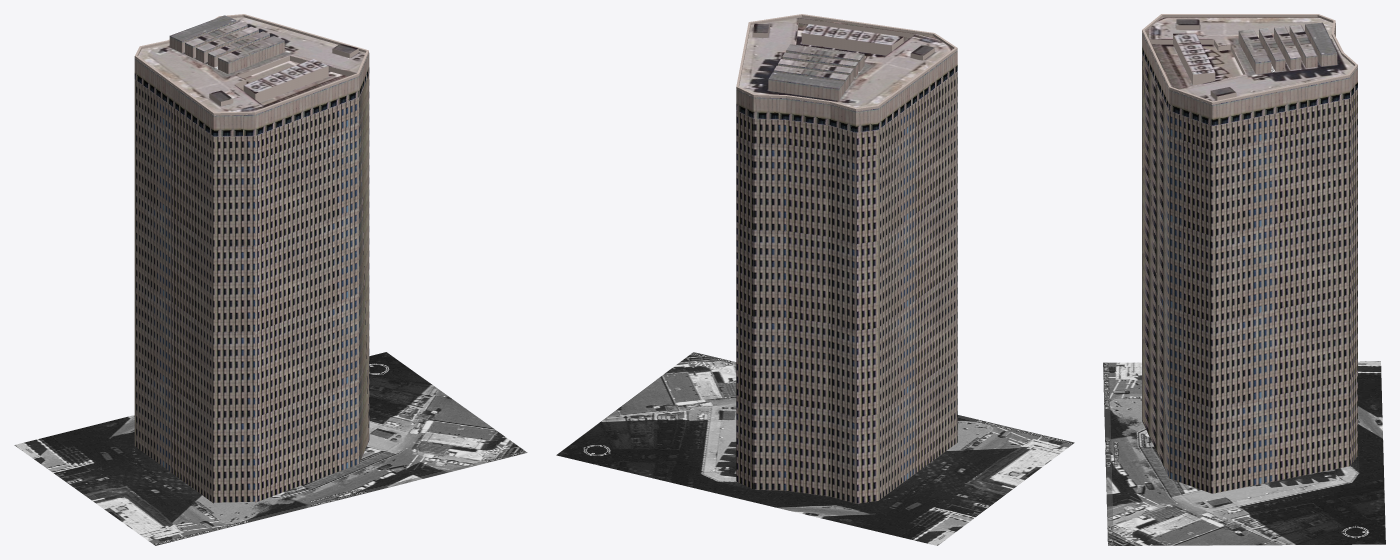
Rendered from asd.fbx.
3 renders of one model, left to right at view 1: azimuth 30°, elevation 25°; view 2: azimuth 150°, elevation 25°; view 3: azimuth 270°, elevation 25°, orthographic.
Visible parts, largest first — view 1: Model, Google_Earth_Snapshot; view 2: Model, Google_Earth_Snapshot; view 3: Model, Google_Earth_Snapshot.
Boxes of the visible parts, x1,y1,x2,y2 form: Model: (134, 14, 369, 503); Google_Earth_Snapshot: (14, 352, 527, 545); Model: (736, 14, 957, 503); Google_Earth_Snapshot: (556, 352, 1074, 545); Model: (1142, 14, 1357, 493); Google_Earth_Snapshot: (1103, 361, 1385, 545).
Size of the model in its own units: 5419 by 5484 by 3510.
